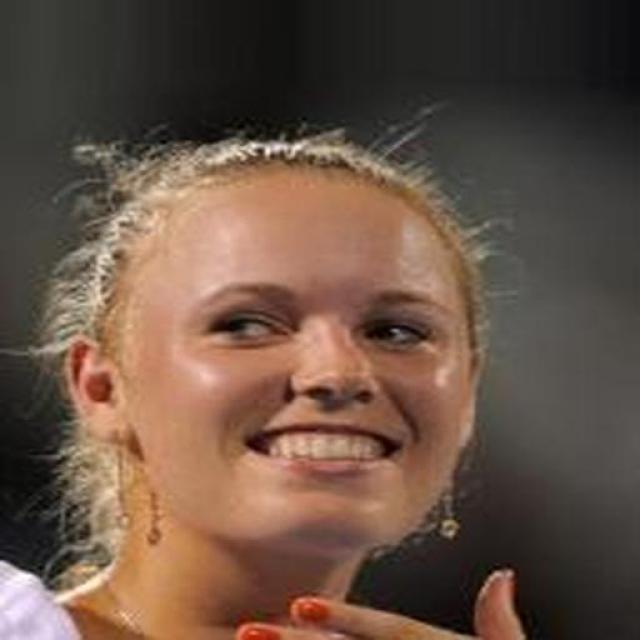bareface: (157, 206, 466, 545)
